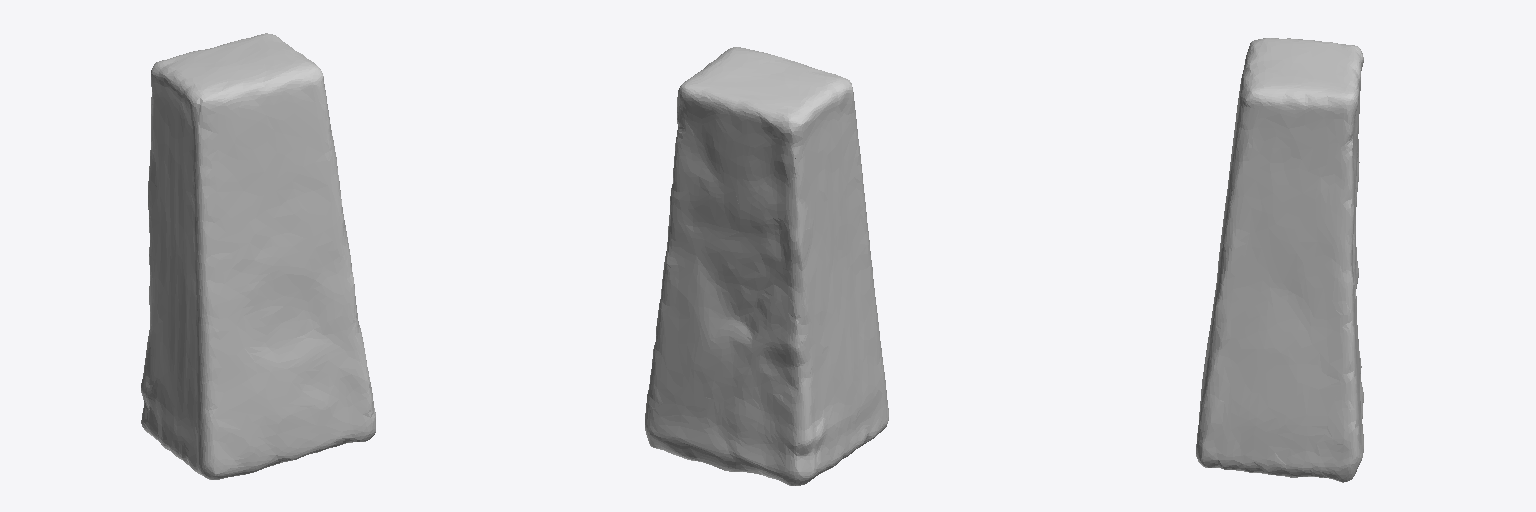
Rendered from cleaned_mesh_10000.obj.
3 renders of one model, left to right at view 1: azimuth 30°, elevation 25°; view 2: azimuth 150°, elevation 25°; view 3: azimuth 270°, elevation 25°, orthographic.
Size of the model in its own units: 0.0973 by 0.2014 by 0.0807.